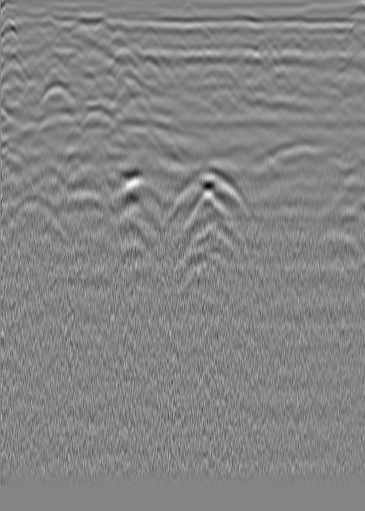가스: (111, 175, 162, 215)
상수: (328, 33, 348, 53)
오수: (45, 31, 65, 51)
우수: (194, 39, 214, 59)
